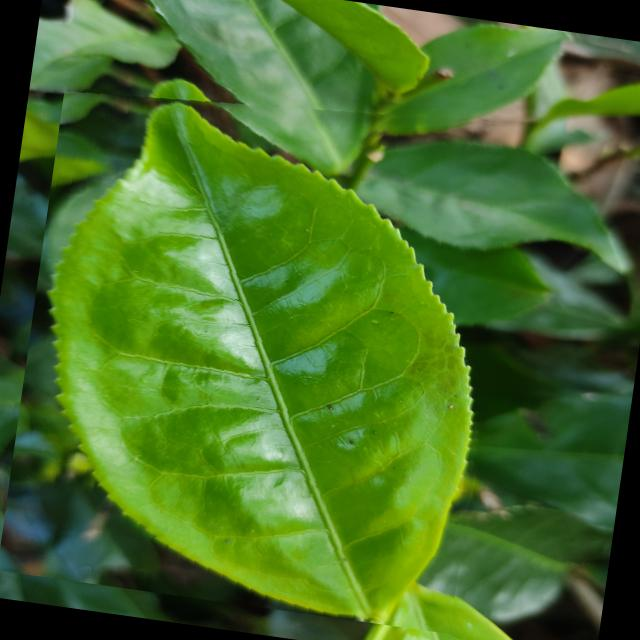Category B(2-4 days): (0, 60, 528, 635)
